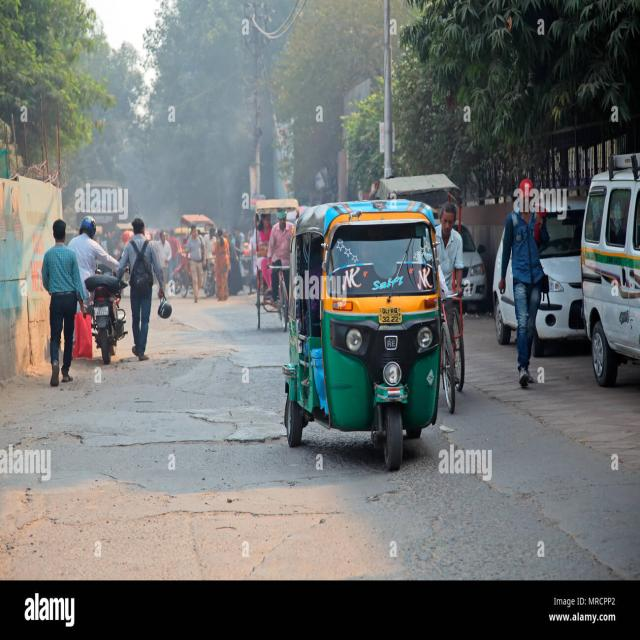Vehicles: (270, 189, 454, 485)
